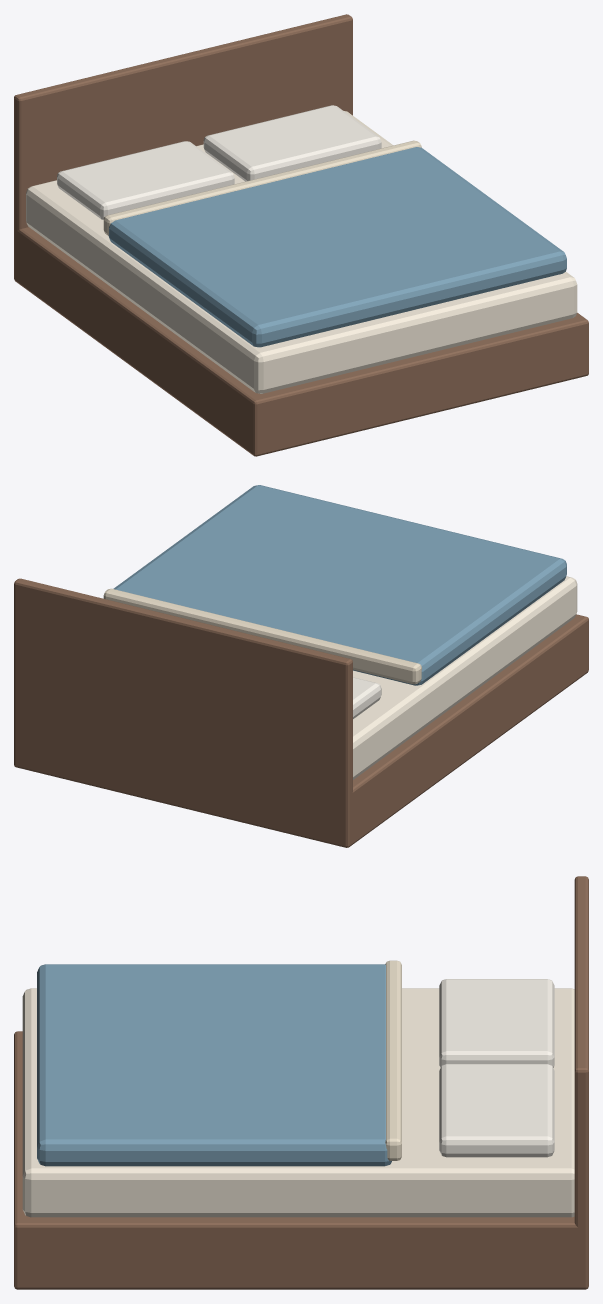
The model's file is hh_bed_double.glb.
The picture shows the model from 3 angles, top to bottom: view 1: azimuth 30°, elevation 25°; view 2: azimuth 150°, elevation 25°; view 3: azimuth 270°, elevation 25°; orthographic projection. The views are drawn at different scales.
Visible parts, largest first — view 1: duvet, frame, headboard, mattress, pillow, pillow.001, fold; view 2: headboard, duvet, frame, mattress, fold, pillow; view 3: duvet, frame, mattress, pillow.001, pillow, headboard, fold.
Part boxes in pixels (box(x1,y1,x2,y2)): duvet: box(108, 147, 566, 347); frame: box(14, 227, 588, 456); headboard: box(14, 14, 352, 279); mattress: box(26, 111, 577, 393); pillow: box(57, 141, 234, 219); pillow.001: box(203, 105, 381, 181); fold: box(103, 140, 421, 235); headboard: box(14, 578, 352, 846); duvet: box(113, 485, 566, 685); frame: box(14, 614, 588, 847); mattress: box(353, 576, 577, 779); fold: box(103, 588, 421, 684); pillow: box(353, 677, 381, 718); duvet: box(37, 964, 391, 1166); frame: box(14, 1031, 588, 1289); mattress: box(22, 988, 574, 1217); pillow.001: box(439, 1064, 554, 1157); pillow: box(439, 979, 554, 1067); headboard: box(574, 876, 588, 1289); fold: box(385, 960, 401, 1160).
Bounding box in the file's own units: 1.6 × 0.85 × 2.
